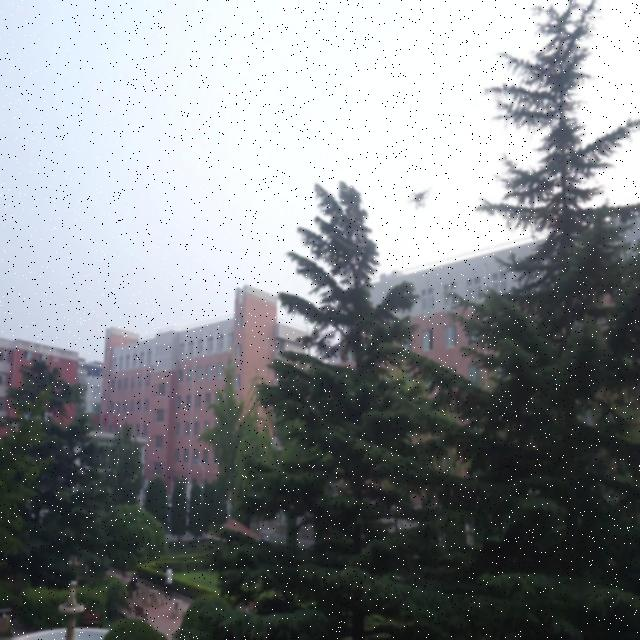UAV: (407, 188, 431, 209)
